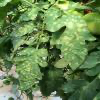Tomato mold leaf: (52, 13, 90, 70), (13, 47, 48, 91), (14, 22, 41, 37), (45, 8, 63, 24), (68, 0, 91, 10), (54, 55, 70, 69), (27, 7, 38, 21), (40, 36, 50, 43), (25, 39, 35, 45)
